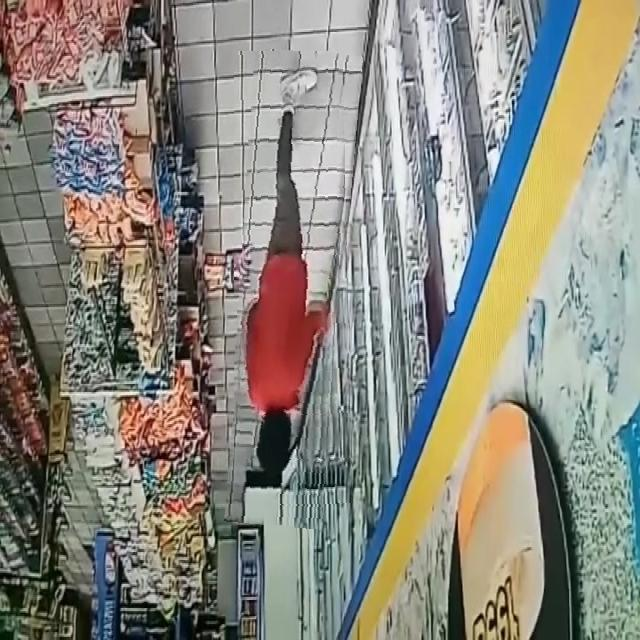Normal: (234, 51, 353, 528)
